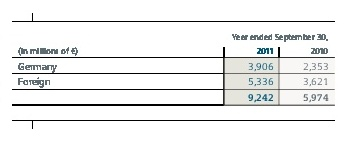table: (0, 0, 354, 144)
